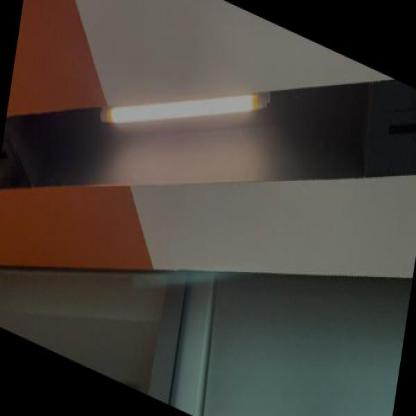light_on: (90, 7, 280, 216)
